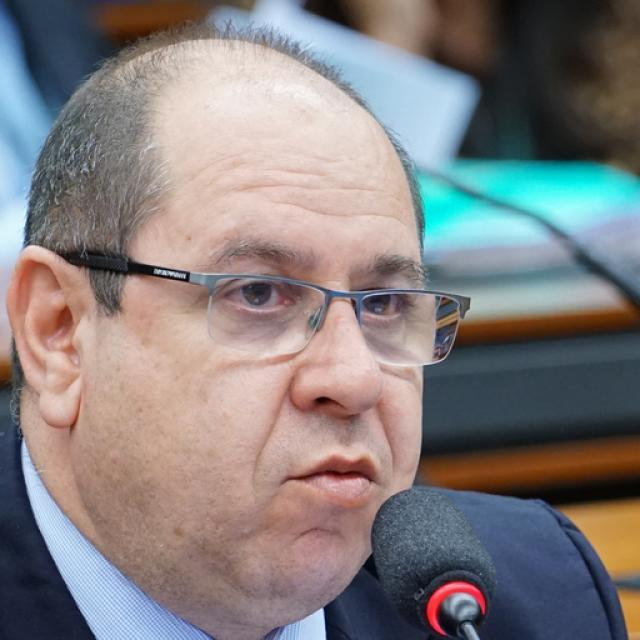disgust: (98, 114, 432, 595)
